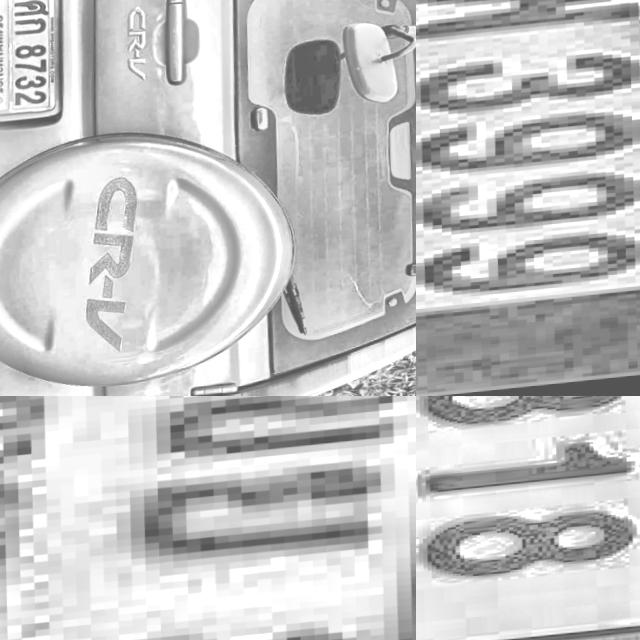license-plate: (0, 396, 416, 640), (416, 0, 640, 396), (416, 396, 640, 640), (0, 0, 70, 129)
